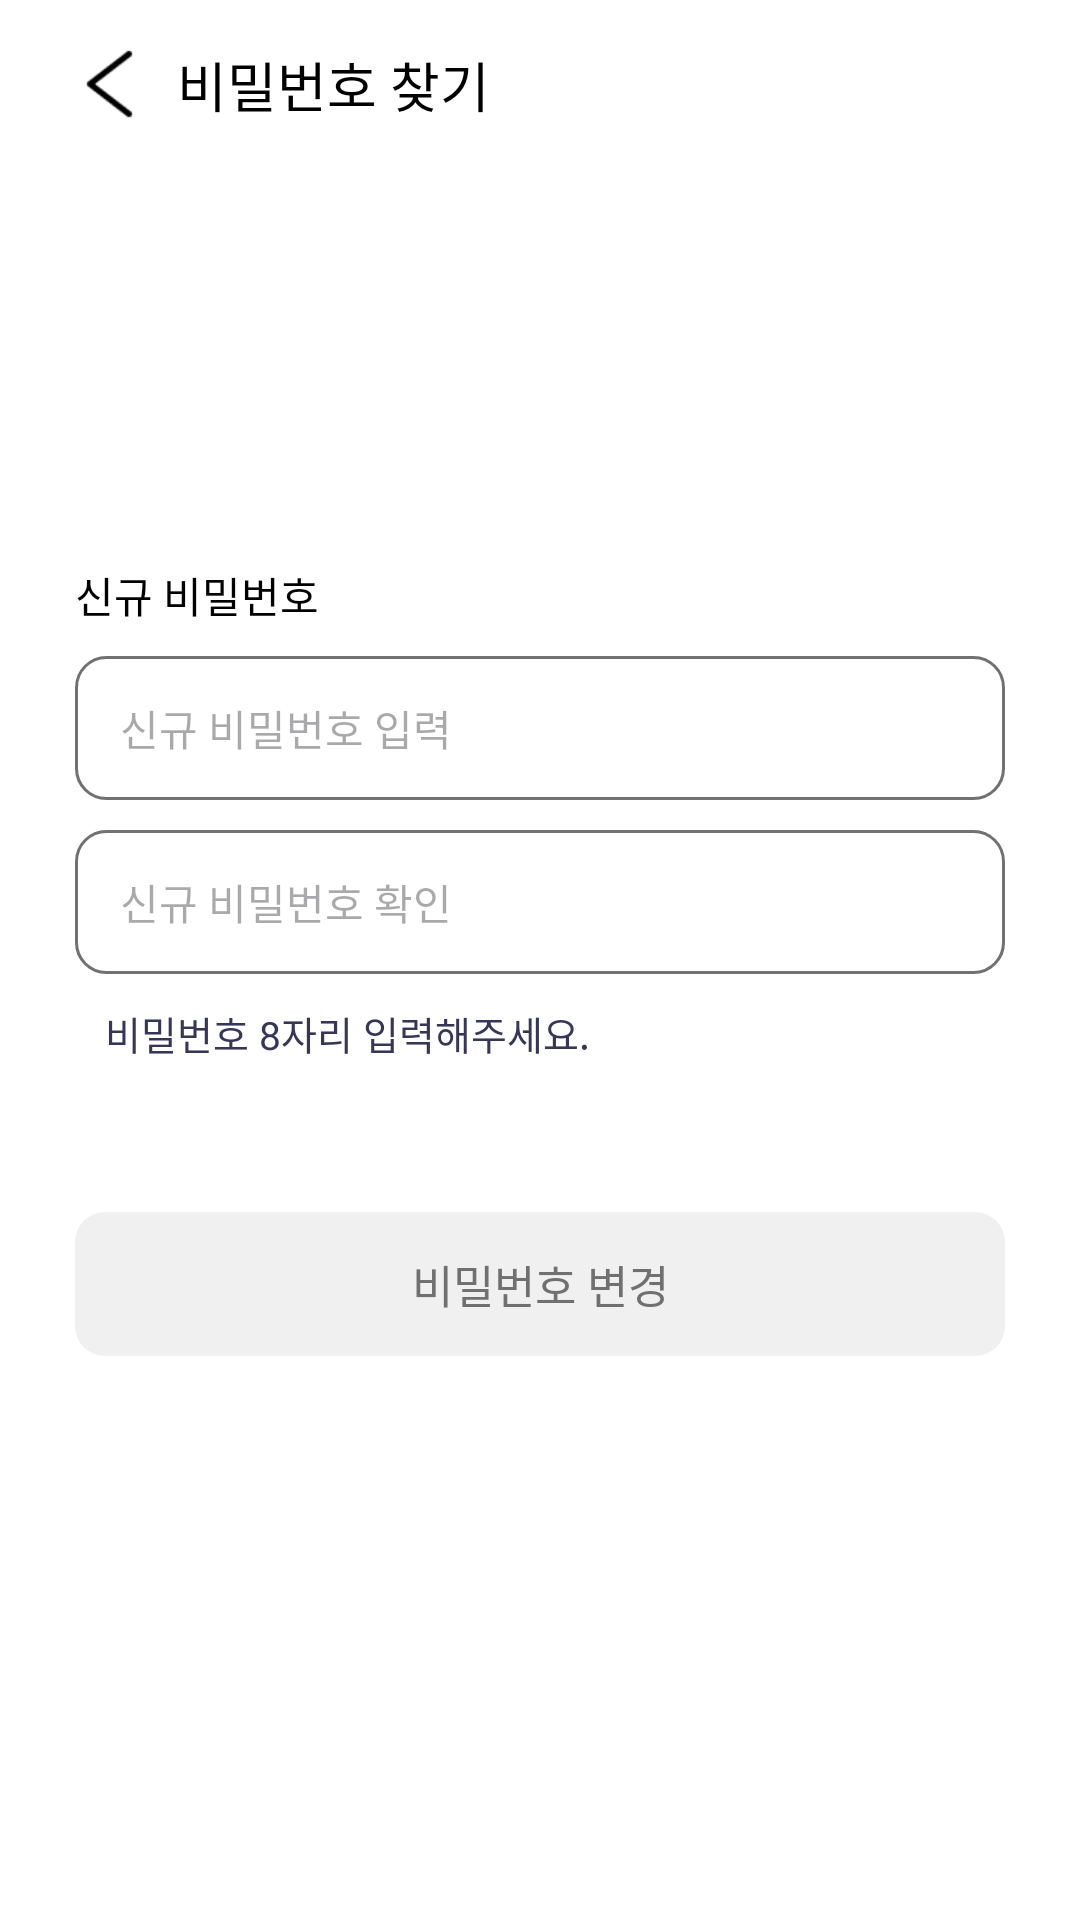

Locate icon controls on the screen. Image size 1080 x 1920, boxes as (x1, y1, x2, y2).
login left arrow: (86, 50, 133, 118)
